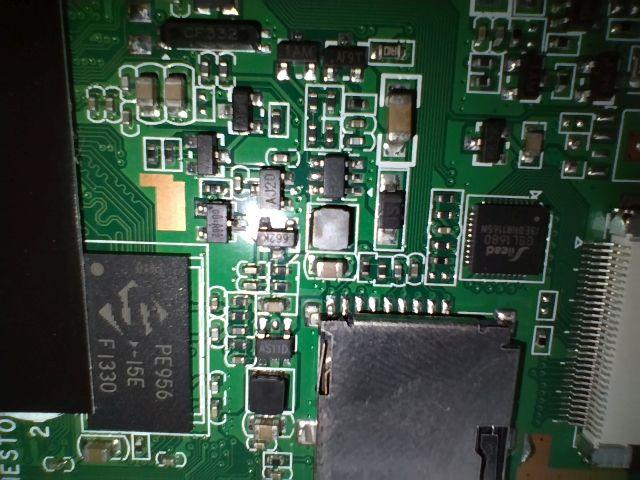capacitor: (380, 72, 423, 174), (129, 56, 164, 126), (72, 429, 124, 466), (162, 60, 192, 122), (306, 252, 352, 286), (405, 250, 421, 290)
resistor: (468, 53, 503, 74)
